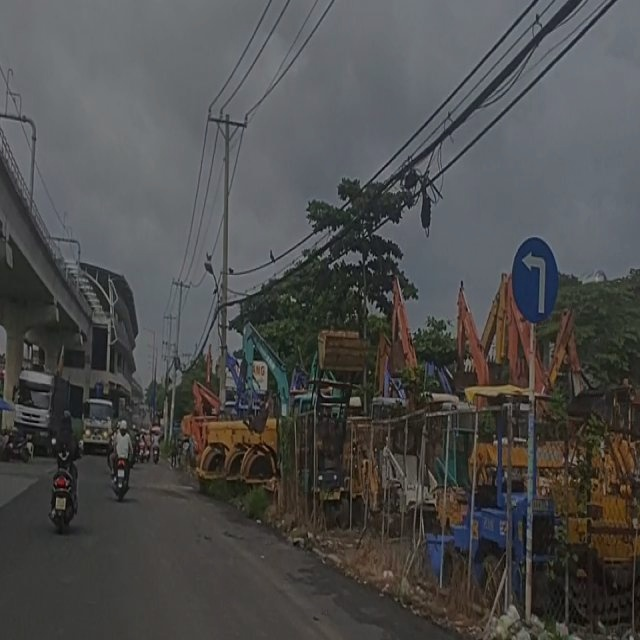R.301e: (512, 236, 560, 324)
